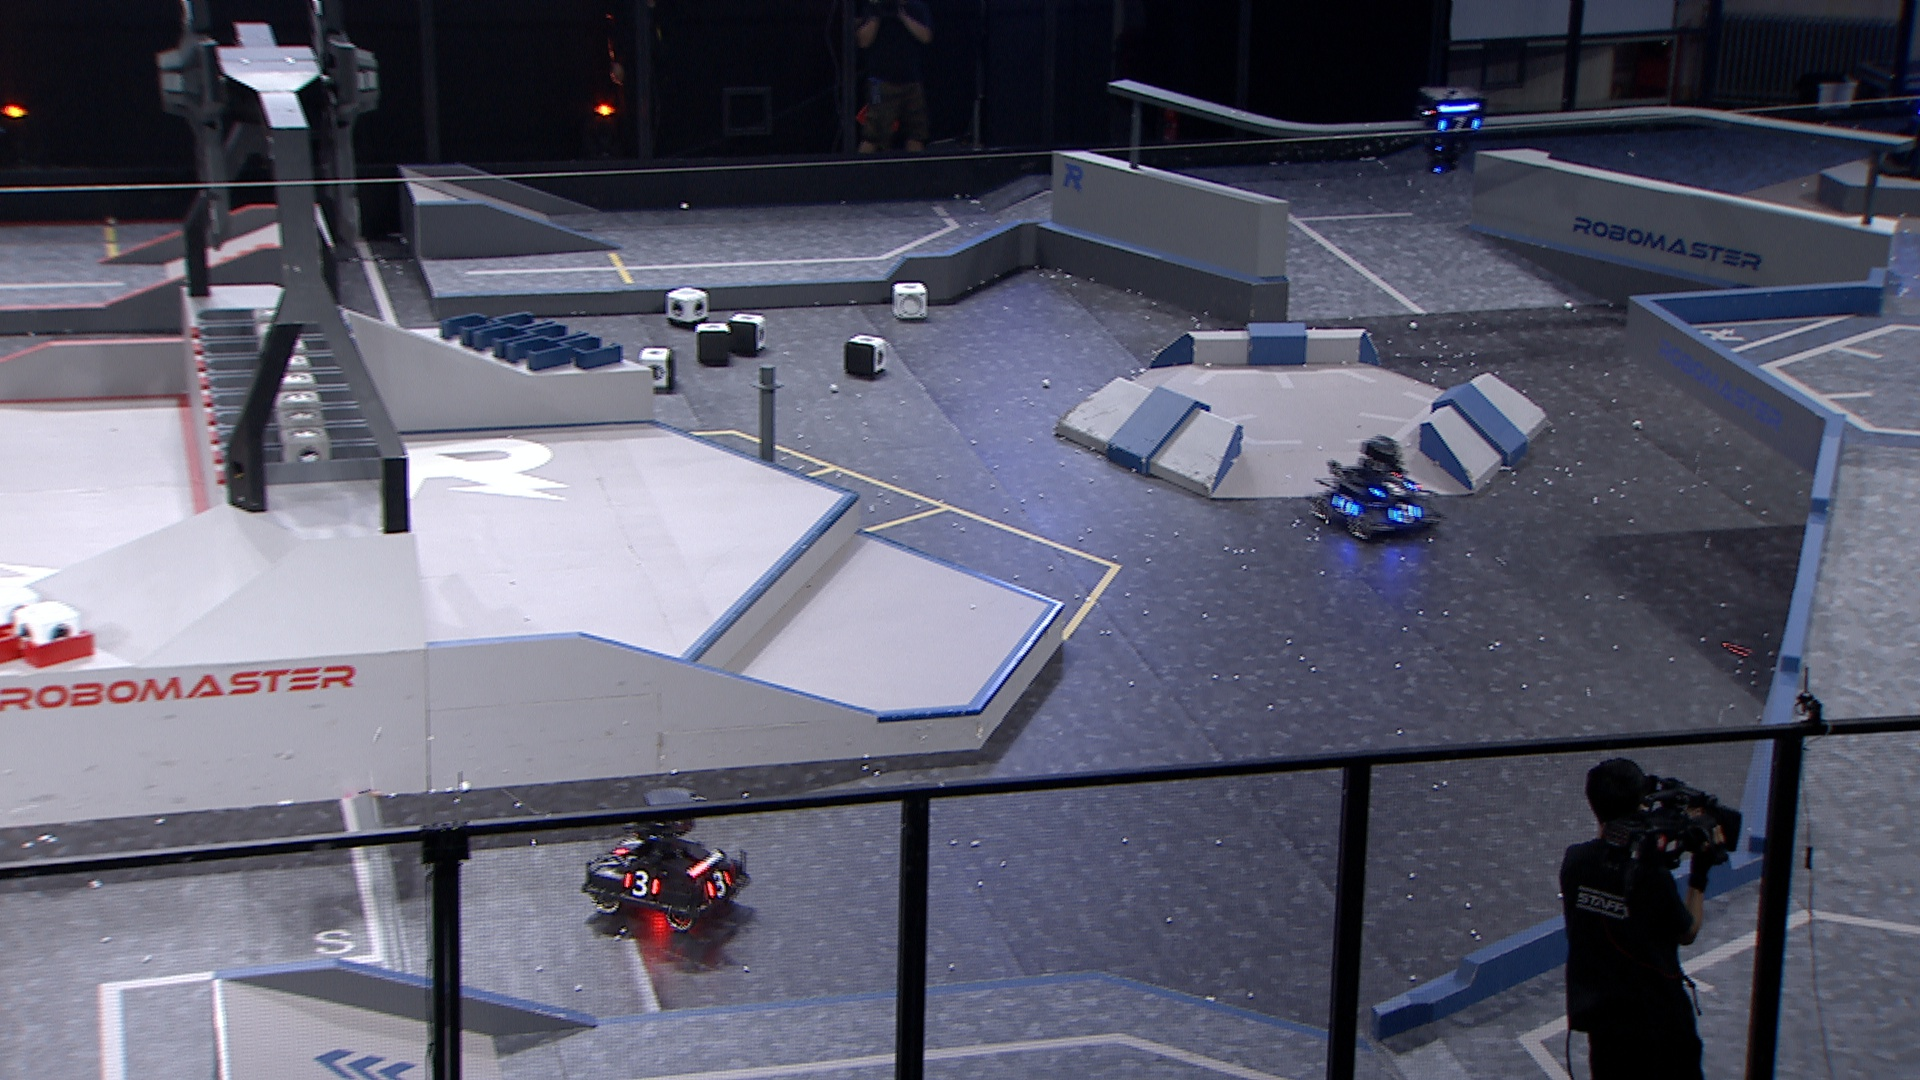armor: (1367, 476, 1418, 504), (624, 866, 662, 897), (1437, 113, 1486, 135), (1386, 501, 1422, 527), (705, 865, 731, 898), (1328, 491, 1360, 516), (612, 832, 642, 856)
base: (1869, 50, 1920, 187)
car: (575, 785, 752, 938), (1304, 436, 1443, 542)
watcher: (1416, 82, 1486, 181)
